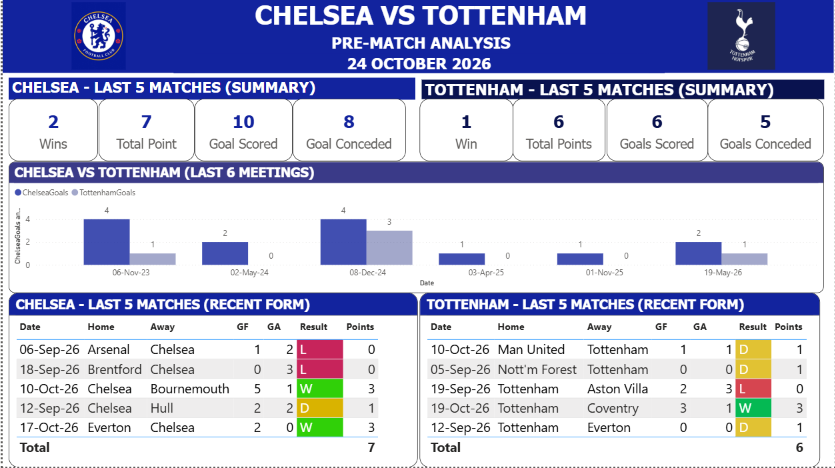

Layout of this report page (visuals, bound fields, positions):
{"tool":"powerbi","page":{"name":"PreMatch","canvas":[1280,720],"ordinal":0},"visuals":[{"type":"textbox","title":"CHELSEA VS TOTTENHAM","box":[9.9,0,1268.9,114.3],"z":0},{"type":"textbox","title":"24 OCTOBER 2026","box":[263.4,84.5,755.4,29.8],"z":1000},{"type":"image","box":[0,0,294.9,114.3],"z":2000},{"type":"image","box":[993.9,0,284.9,114.3],"z":3000},{"type":"textbox","title":"CHELSEA - LAST 5 MATCHES (SUMMARY)","box":[9.9,120.9,624.5,33.1],"z":4000},{"type":"textbox","title":"TOTTENHAM - LAST 5 MATCHES (SUMMARY)","box":[644.4,124.2,619.5,29.8],"z":5000},{"type":"card","fields":{"Values":["Chelsea_Last5.Chelsea Goals Scored"]},"box":[294.9,154.1,150.7,96.1],"z":6000},{"type":"card","fields":{"Values":["Chelsea_Last5.Chelsea Goals Conceded"]},"box":[445.6,154.1,173.9,96.1],"z":7000},{"type":"card","fields":{"Values":["Tottenham_Last5.Tottenham Goals Conceded"]},"box":[1085,154.1,178.9,96.1],"z":8000},{"type":"card","fields":{"Values":["Tottenham_Last5.Tottenham Total Points"]},"box":[785.2,154.1,142.5,96.1],"z":9000},{"type":"card","fields":{"Values":["Tottenham_Last5.Tottenham Goals Scored"]},"box":[929.3,154.1,155.7,96.1],"z":10000},{"type":"card","fields":{"Values":["Chelsea_Last5.Chelsea Wins"]},"box":[9.9,154.1,137.5,96.1],"z":11000},{"type":"clusteredColumnChart","title":"CHELSEA VS TOTTENHAM  (LAST 6 MEETINGS)","fields":{"Y":["Sum(H2H_Matches.ChelseaGoals)","Sum(H2H_Matches.TottenhamGoals)"],"Category":["H2H_Matches.Date"]},"box":[9.9,250.1,1254,202.1],"z":12000},{"type":"tableEx","title":"CHELSEA - LAST 5 MATCHES (RECENT FORM)","fields":{"Values":["Chelsea_Last5.Date","Chelsea_Last5.HomeTeam","Chelsea_Last5.AwayTeam","Chelsea_Last5.GoalsScored","Chelsea_Last5.GoalsConceded","Chelsea_Last5.MatchResult","Sum(Chelsea_Last5.Points)"]},"box":[9.9,452.2,629.5,268.3],"z":13000},{"type":"tableEx","title":"TOTTENHAM - LAST 5 MATCHES (RECENT FORM)","fields":{"Values":["Tottenham_Last5.Date","Tottenham_Last5.HomeTeam","Tottenham_Last5.AwayTeam","Tottenham_Last5.GoalsScored","Tottenham_Last5.GoalsConceded","Tottenham_Last5.MatchResult","Sum(Tottenham_Last5.Points)"]},"box":[641.1,452.2,616.2,268.3],"z":14000},{"type":"card","fields":{"Values":["Chelsea_Last5.Chelsea Total Points"]},"box":[147.4,154.1,147.4,96.1],"z":15000},{"type":"card","fields":{"Values":["Tottenham_Last5.Tottenham Wins"]},"box":[641.1,154.1,144.1,96.1],"z":16000}]}

Visuals, with their boxes in screenshot pixels (x1, y1, x2, y2), scaled from the page's 1280x720 canvas onto the 835x468 screenshot:
"CHELSEA VS TOTTENHAM" textbox: rect(6, 0, 834, 74)
"24 OCTOBER 2026" textbox: rect(172, 55, 665, 74)
image: rect(0, 0, 192, 74)
image: rect(648, 0, 834, 74)
"CHELSEA - LAST 5 MATCHES (SUMMARY)" textbox: rect(6, 79, 414, 100)
"TOTTENHAM - LAST 5 MATCHES (SUMMARY)" textbox: rect(420, 81, 824, 100)
card - Chelsea_Last5.Chelsea Goals Scored: rect(192, 100, 291, 163)
card - Chelsea_Last5.Chelsea Goals Conceded: rect(291, 100, 404, 163)
card - Tottenham_Last5.Tottenham Goals Conceded: rect(708, 100, 824, 163)
card - Tottenham_Last5.Tottenham Total Points: rect(512, 100, 605, 163)
card - Tottenham_Last5.Tottenham Goals Scored: rect(606, 100, 708, 163)
card - Chelsea_Last5.Chelsea Wins: rect(6, 100, 96, 163)
"CHELSEA VS TOTTENHAM  (LAST 6 MEETINGS)" clusteredColumnChart: rect(6, 163, 824, 294)
"CHELSEA - LAST 5 MATCHES (RECENT FORM)" tableEx: rect(6, 294, 417, 467)
"TOTTENHAM - LAST 5 MATCHES (RECENT FORM)" tableEx: rect(418, 294, 820, 467)
card - Chelsea_Last5.Chelsea Total Points: rect(96, 100, 192, 163)
card - Tottenham_Last5.Tottenham Wins: rect(418, 100, 512, 163)
